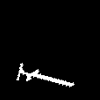double_crochet: (17, 64, 73, 86)
